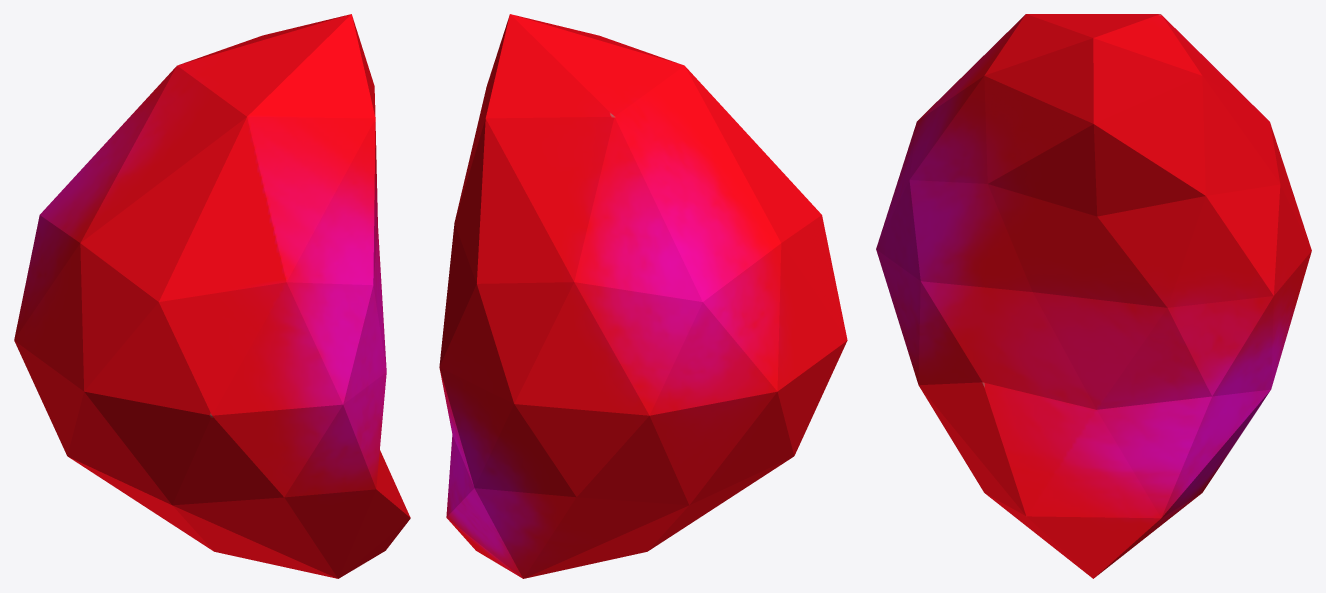
Rendered from MoonStone.fbx.
3 views of the same model, side by side, from view 1: azimuth 30°, elevation 25°; view 2: azimuth 150°, elevation 25°; view 3: azimuth 270°, elevation 25° (orthographic). The views are drawn at different scales.
Parts seen in each view (by area): view 1: MoonStone; view 2: MoonStone; view 3: MoonStone.
Boxes of the visible parts, x1,y1,x2,y2 form: MoonStone: [14, 14, 410, 578]; MoonStone: [439, 14, 847, 578]; MoonStone: [876, 14, 1311, 578].
Bounding box in the file's own units: 68.6 × 106 × 79.89.
